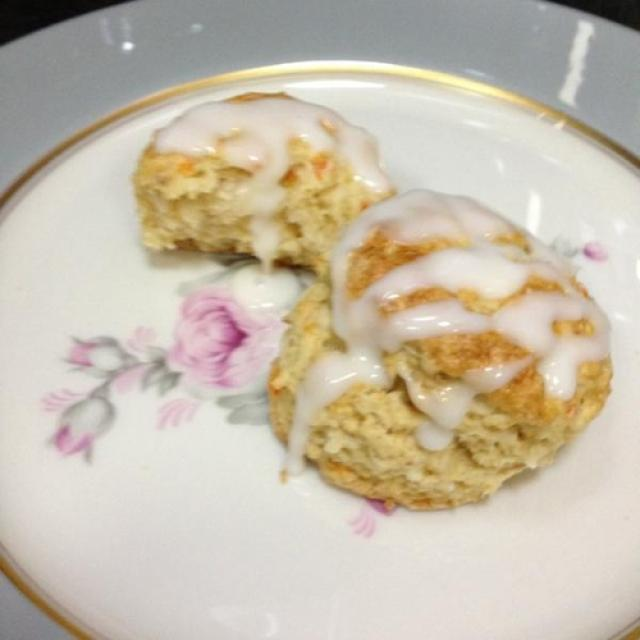面包点心: (0, 60, 637, 633)
